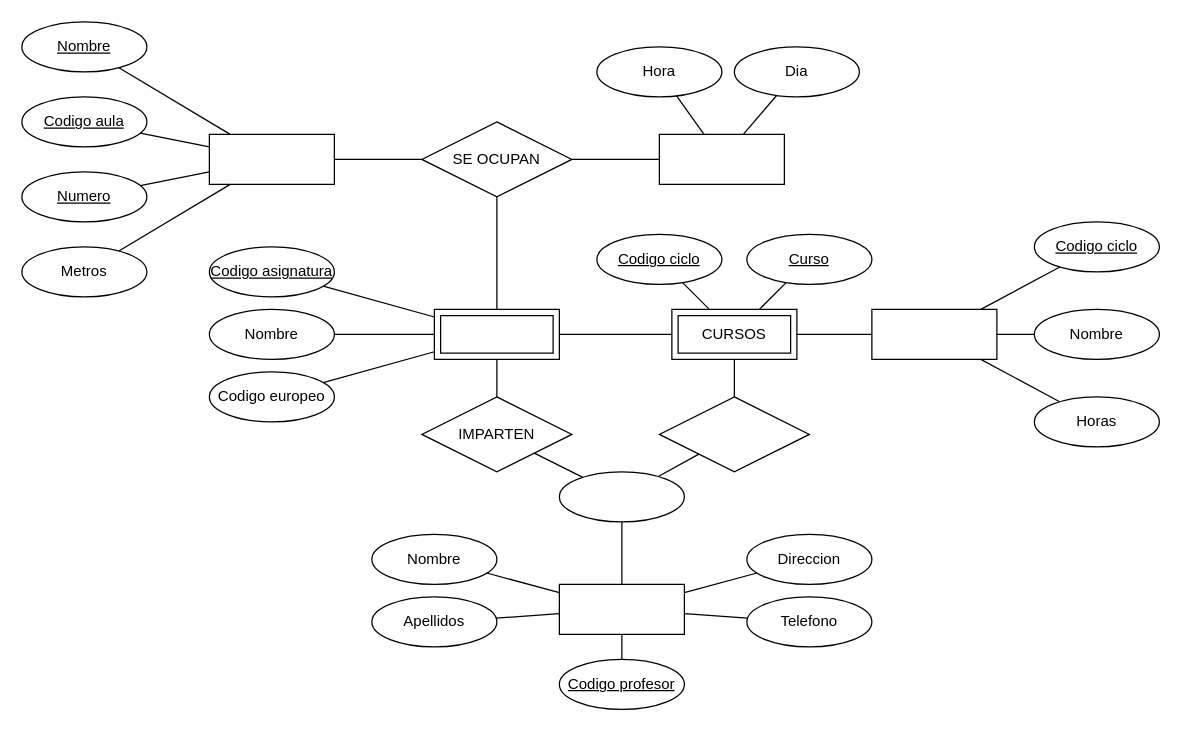
Some shapes in this 1181 by 731 pixel diagram are drawn without their labels. Each missing label, with the box of its shape:
Antigüedad: (558, 471, 684, 522)
ASIGNATURAS: (433, 308, 559, 359)
AULAS: (208, 133, 334, 184)
CICLOS: (871, 308, 997, 359)
HORARIO: (658, 133, 784, 184)
PROFESORES: (558, 583, 684, 634)
SON TUTORES: (658, 396, 809, 472)
